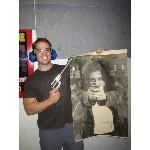Pistol: (50, 58, 72, 94), (91, 81, 98, 91)
